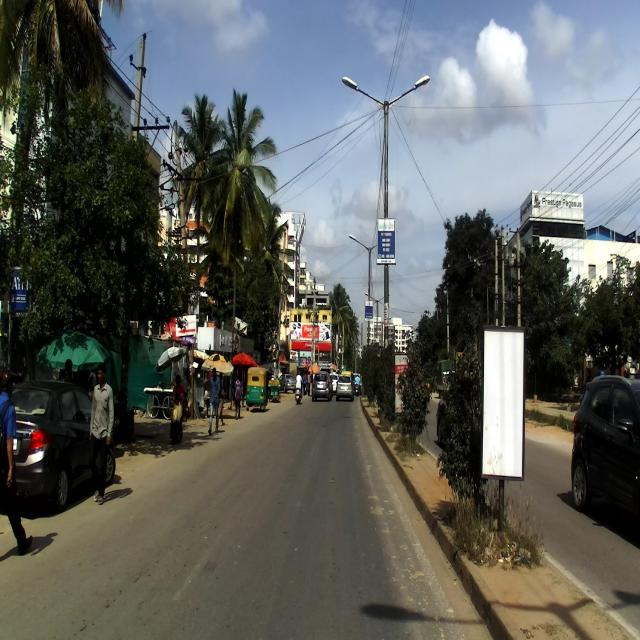Car_Honda: (0, 377, 116, 512)
autorickshaw: (245, 366, 269, 412)
